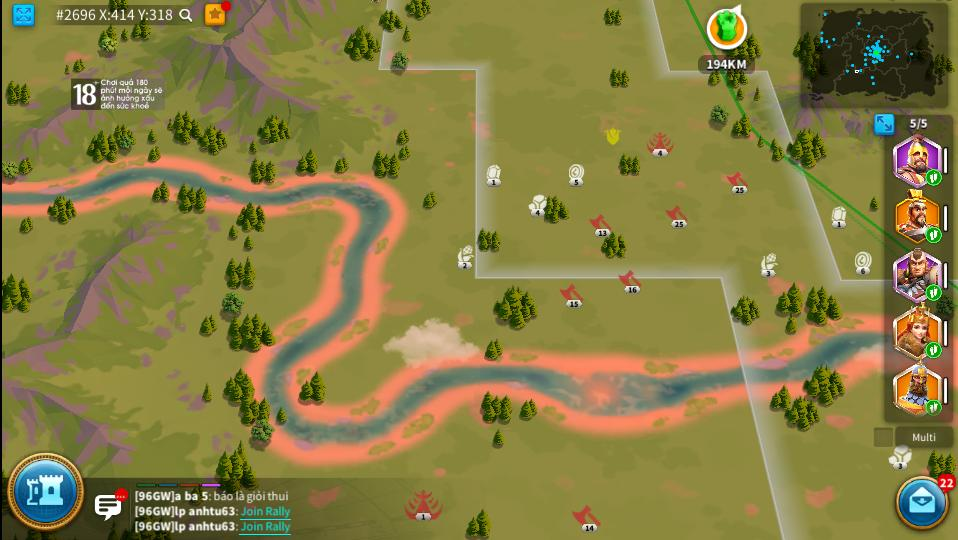gem-z-out: (831, 206, 847, 228), (485, 164, 501, 186)
march_marching: (925, 228, 942, 242), (926, 170, 940, 185), (927, 400, 941, 415), (926, 285, 940, 299), (928, 343, 940, 357)
